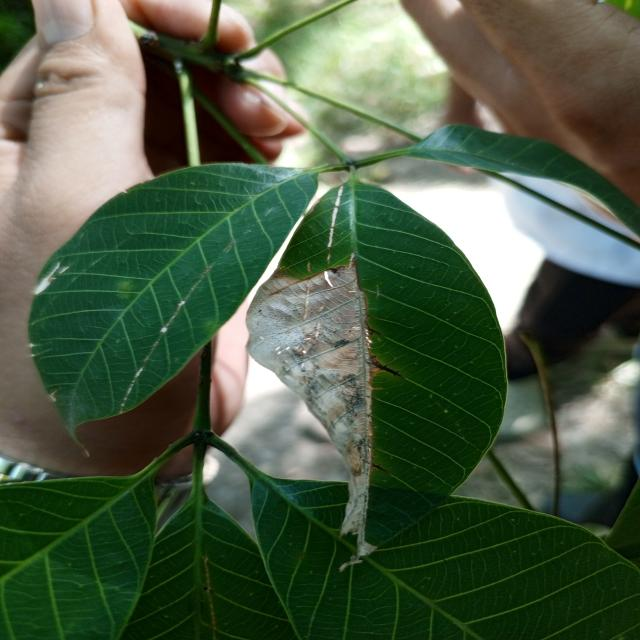Corynespora: (370, 355, 402, 378)
Leaf-Blight: (245, 261, 379, 558)
